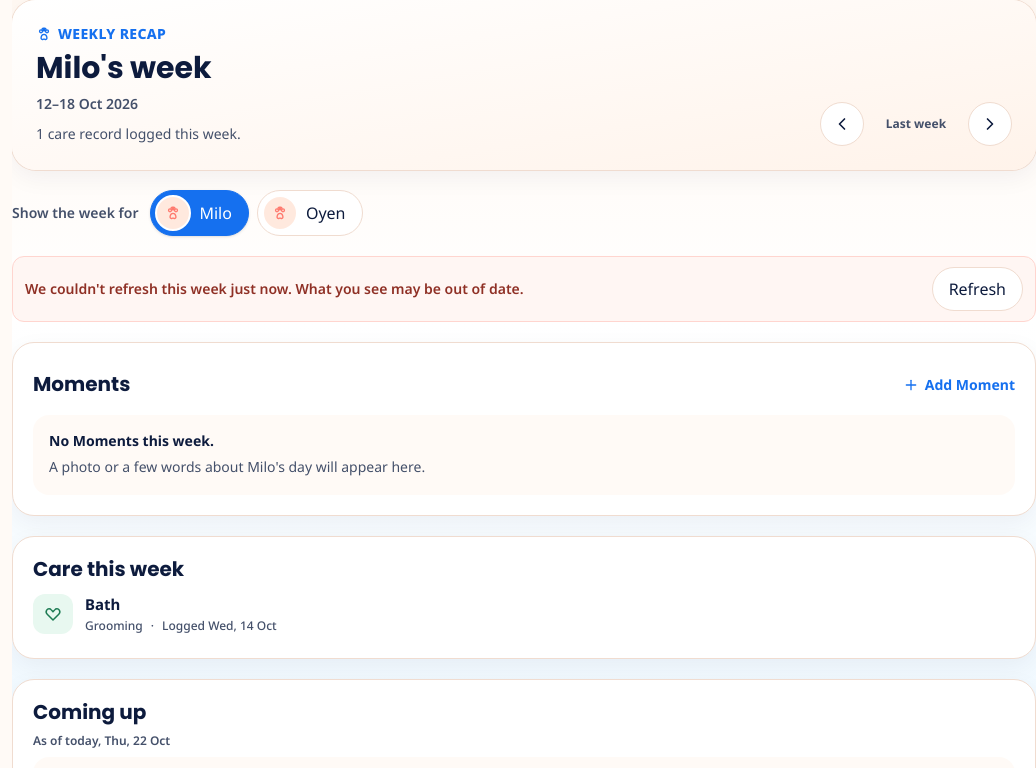
Test: Weekly Recap revalidation › keeps the week with a note when a refresh fails, and Refresh tries again
Expected: the message shows "couldn't refresh this week", [25,278,524,298]
Expected: the text "Bath" is shown, [85,594,120,614]
Click the button "Refresh".
click(977, 288)  # box [932,266,1023,310]
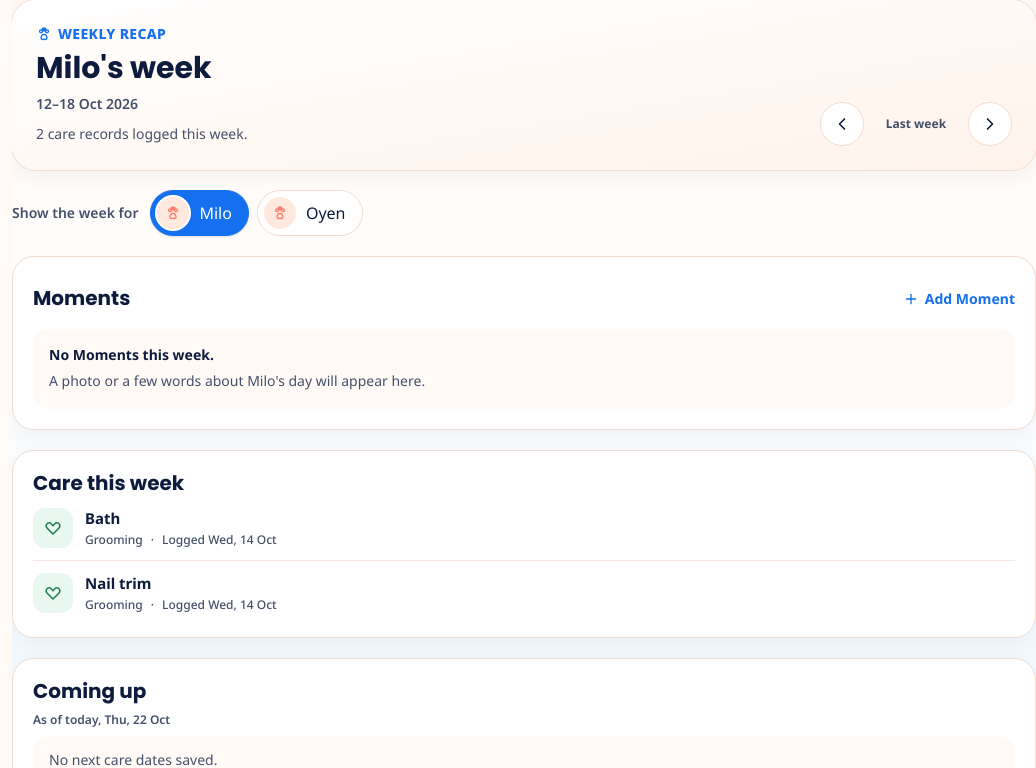
Now the text "Nail trim" is shown, box [85,572,151,592]
